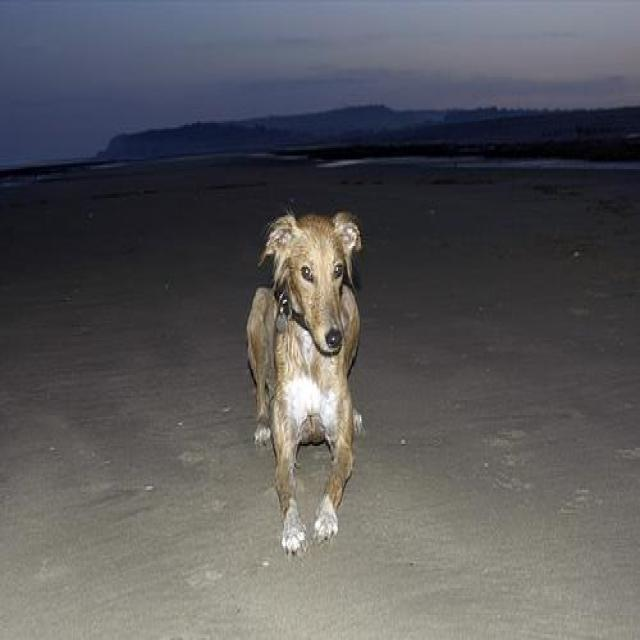saluki: (243, 212, 362, 562)
